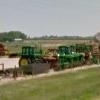Tractor: (43, 31, 96, 71)
